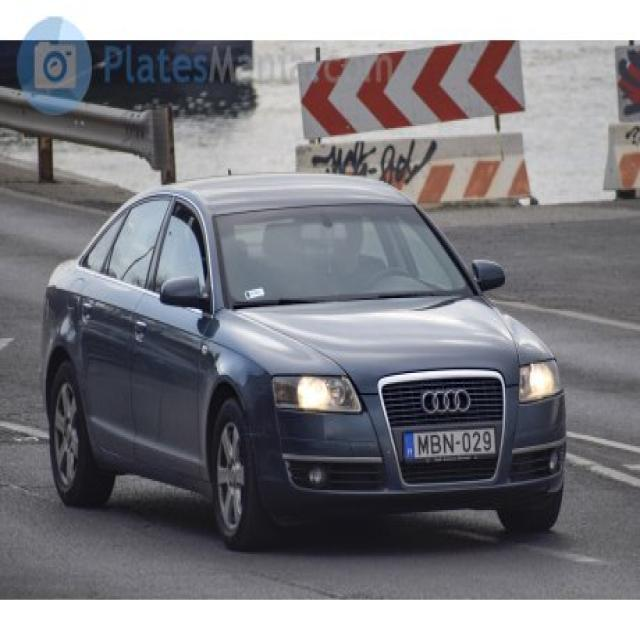licence: (396, 422, 502, 462)
